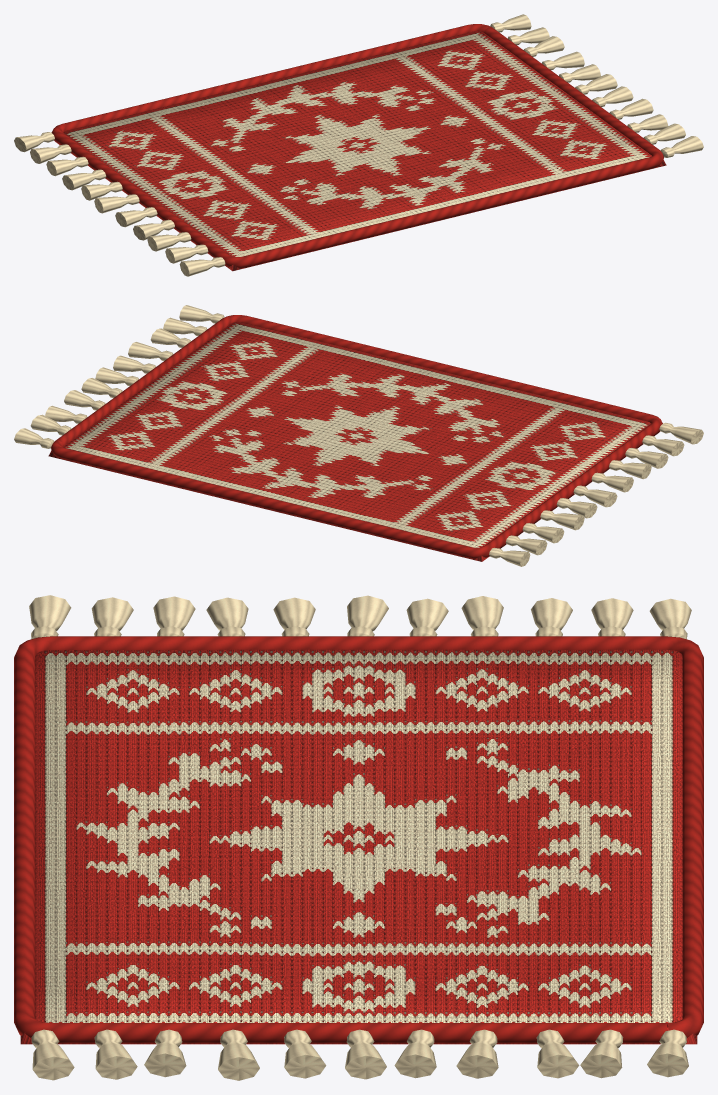
Rendered from rug_red.glb.
3 renders of one model, top to bottom at view 1: azimuth 30°, elevation 25°; view 2: azimuth 150°, elevation 25°; view 3: azimuth 270°, elevation 25°, orthographic. The views are drawn at different scales.
Visible parts, largest first — view 1: model; view 2: model; view 3: model.
Boxes of the visible parts, x1=… form: model: x1=14, y1=14, x2=703, y2=276; model: x1=14, y1=305, x2=703, y2=566; model: x1=14, y1=595, x2=703, y2=1080.
Bounding box in the file's own units: 3 × 0.072 × 1.89.
3 materials, 3 textured.
